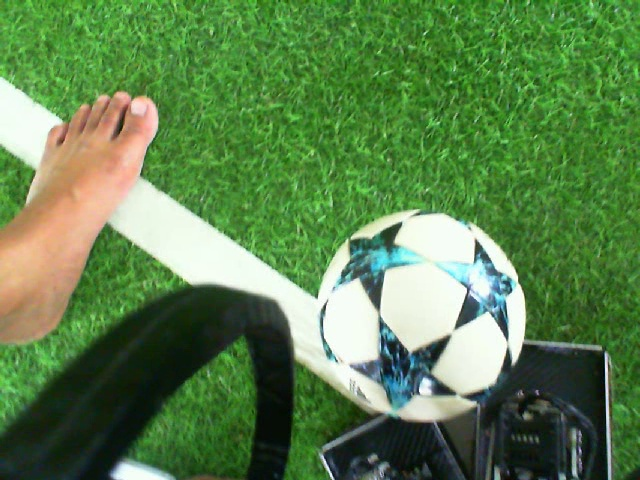ball: (315, 207, 530, 424)
